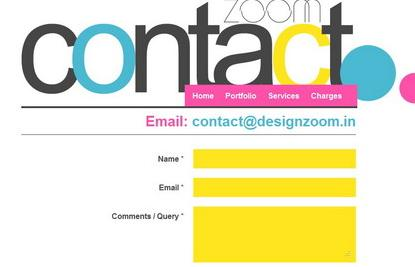field: (191, 204, 357, 262), (192, 176, 356, 198), (193, 148, 357, 169)
field_with_label: (111, 202, 360, 264), (159, 175, 357, 199), (158, 147, 358, 170)
